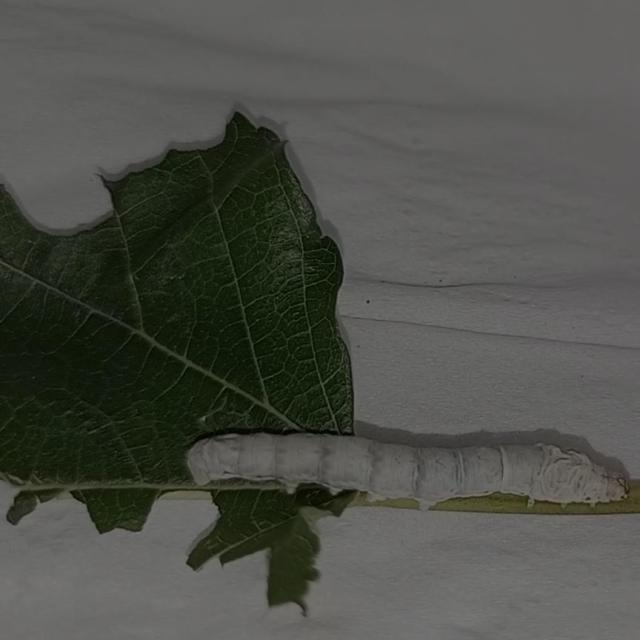Healthy: (175, 393, 640, 535)
